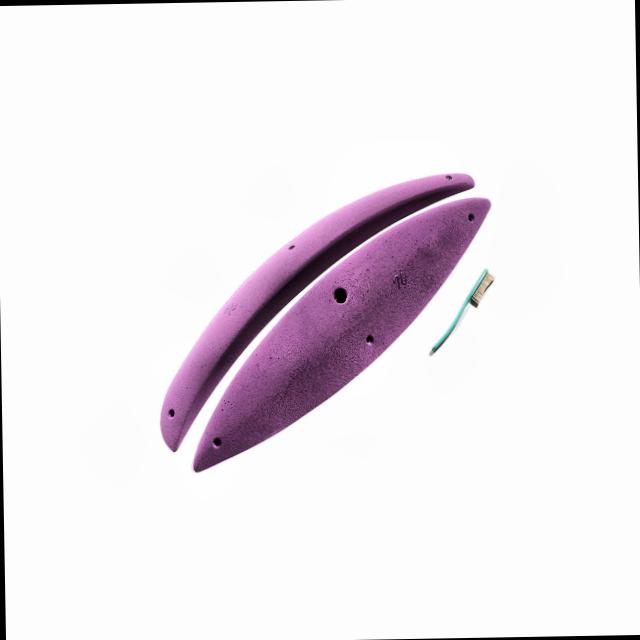Hold: (136, 149, 512, 508)
